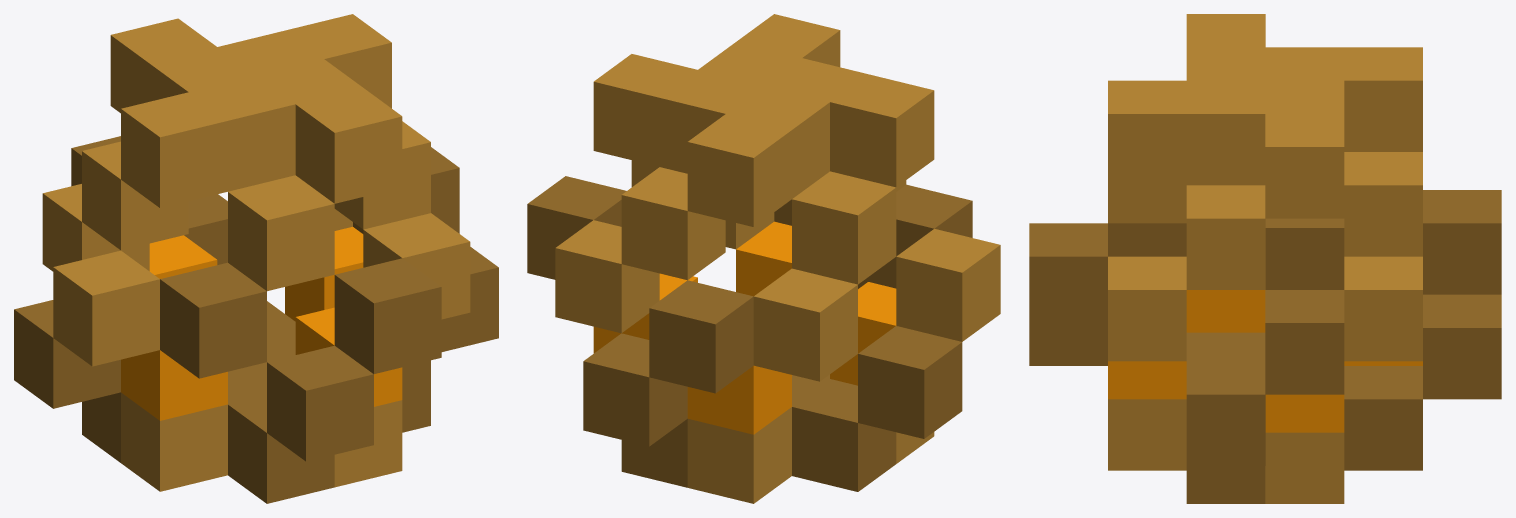
Rendered from 2.1 weed.obj.
The picture shows the model from 3 angles, left to right: view 1: azimuth 30°, elevation 25°; view 2: azimuth 150°, elevation 25°; view 3: azimuth 270°, elevation 25°; orthographic projection. The views are drawn at different scales.
Bounding box in the file's own units: 0.6 × 0.5 × 0.6.
1 material, 1 textured.
